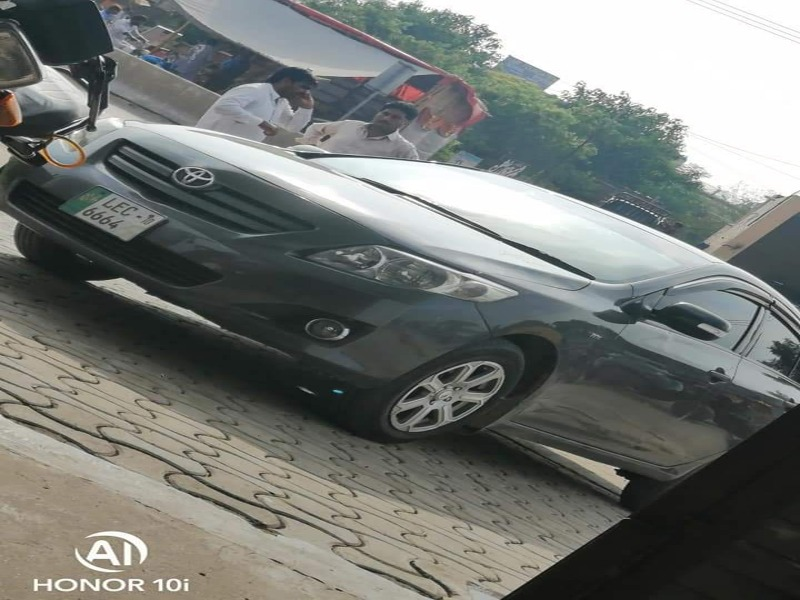License Plate: (56, 183, 169, 245)
